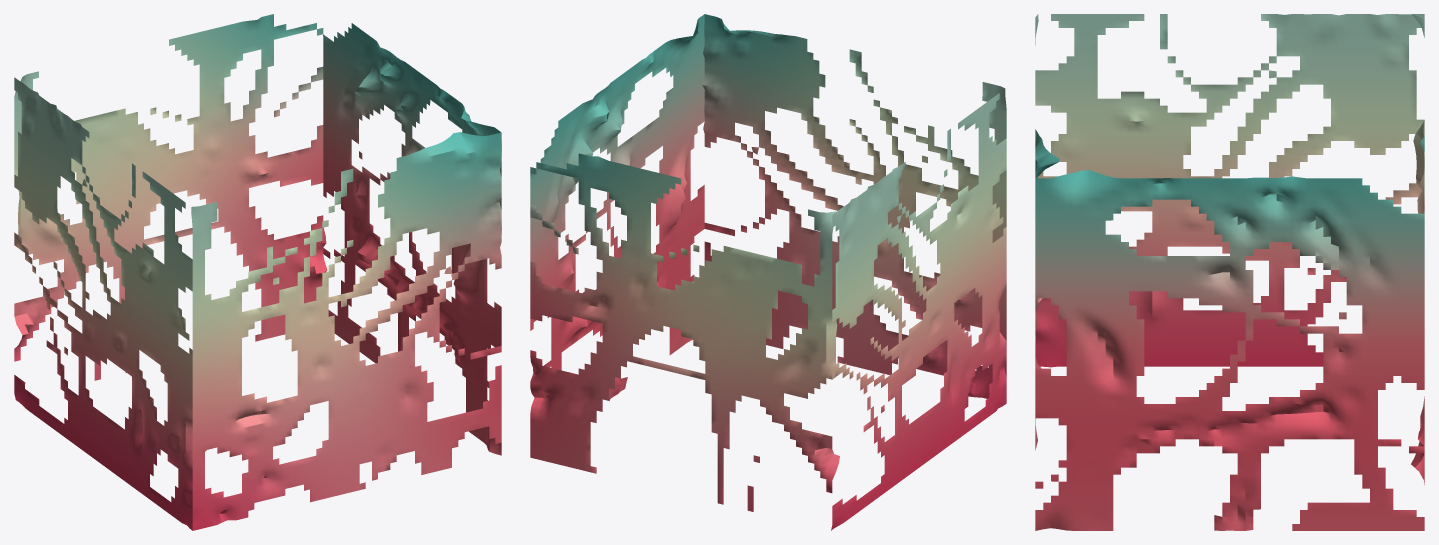
Rendered from Wire_grounds_sm.fbx.
3 views of the same model, side by side, from view 1: azimuth 30°, elevation 25°; view 2: azimuth 150°, elevation 25°; view 3: azimuth 270°, elevation 25° (orthographic). The views are drawn at different scales.
Visible parts, largest first — view 1: Plane, Plane_1, Plane_2, Plane_3_1; view 2: Plane_1, Plane, Plane_2, Plane_3_1; view 3: Plane_3_1, Plane_2, Plane_1, Plane.
Boxes of the visible parts, x1,y1,x2,y2 form: Plane: [191, 132, 501, 530]; Plane_1: [14, 14, 327, 380]; Plane_2: [14, 77, 206, 530]; Plane_3_1: [323, 23, 501, 455]; Plane_1: [530, 153, 839, 511]; Plane: [702, 14, 1006, 398]; Plane_2: [831, 93, 1006, 530]; Plane_3_1: [530, 14, 704, 401]; Plane_3_1: [1035, 170, 1424, 530]; Plane_2: [1035, 14, 1424, 367]; Plane_1: [1411, 14, 1424, 484]; Plane: [1035, 14, 1059, 450].
Bounding box in the file's own units: 100 × 100 × 100.
1 material, 1 textured.
